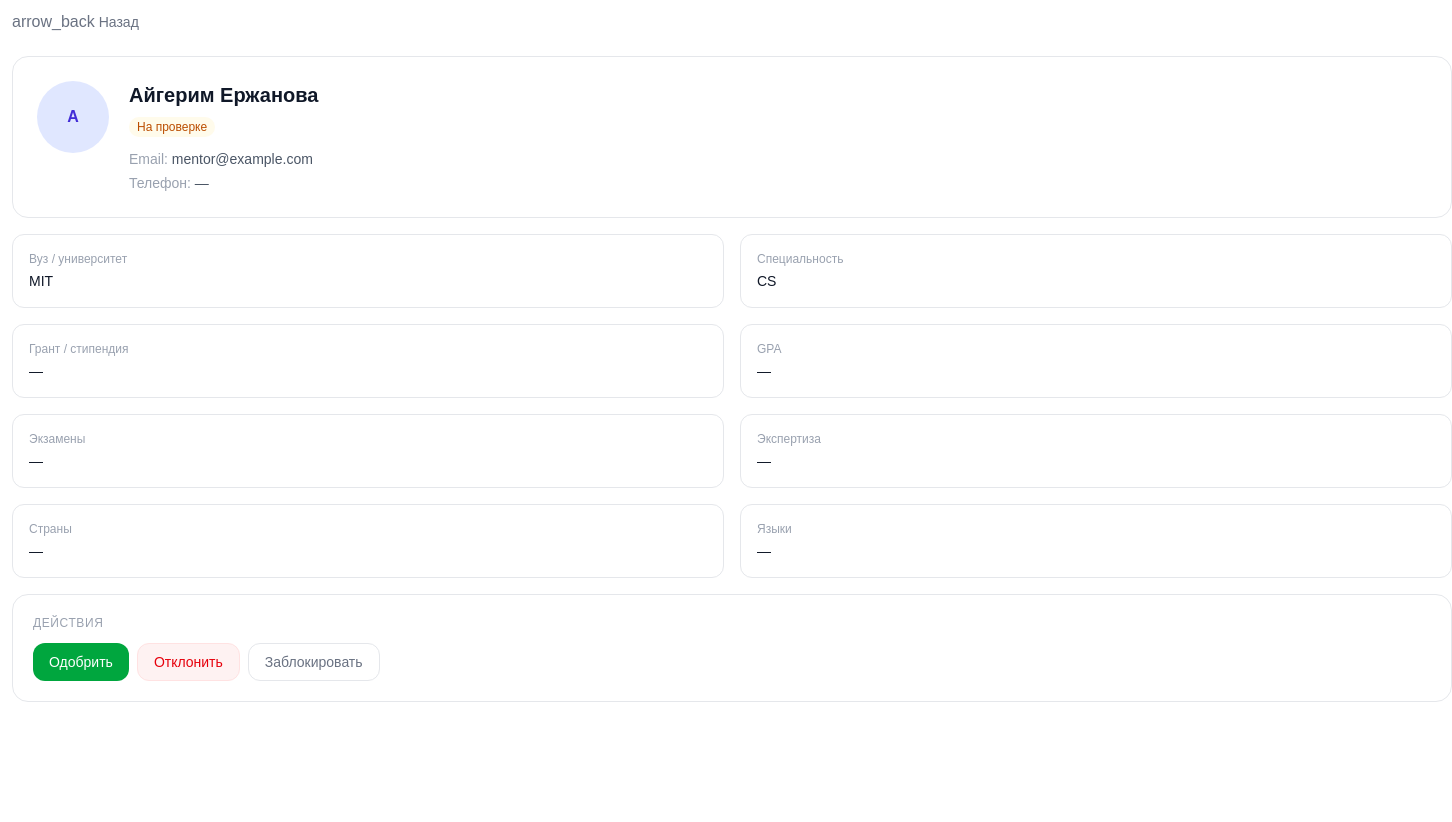
Test case: CRMMentorDetailPage › approves a submitted, unapproved mentor and navigates back to the list
This screenshot has width=1452, height=822.
Expected: the heading "Айгерим Ержанова" is shown, [129,84,318,106]
Click the button "Одобрить".
click(81, 662)  # box [33,643,129,681]
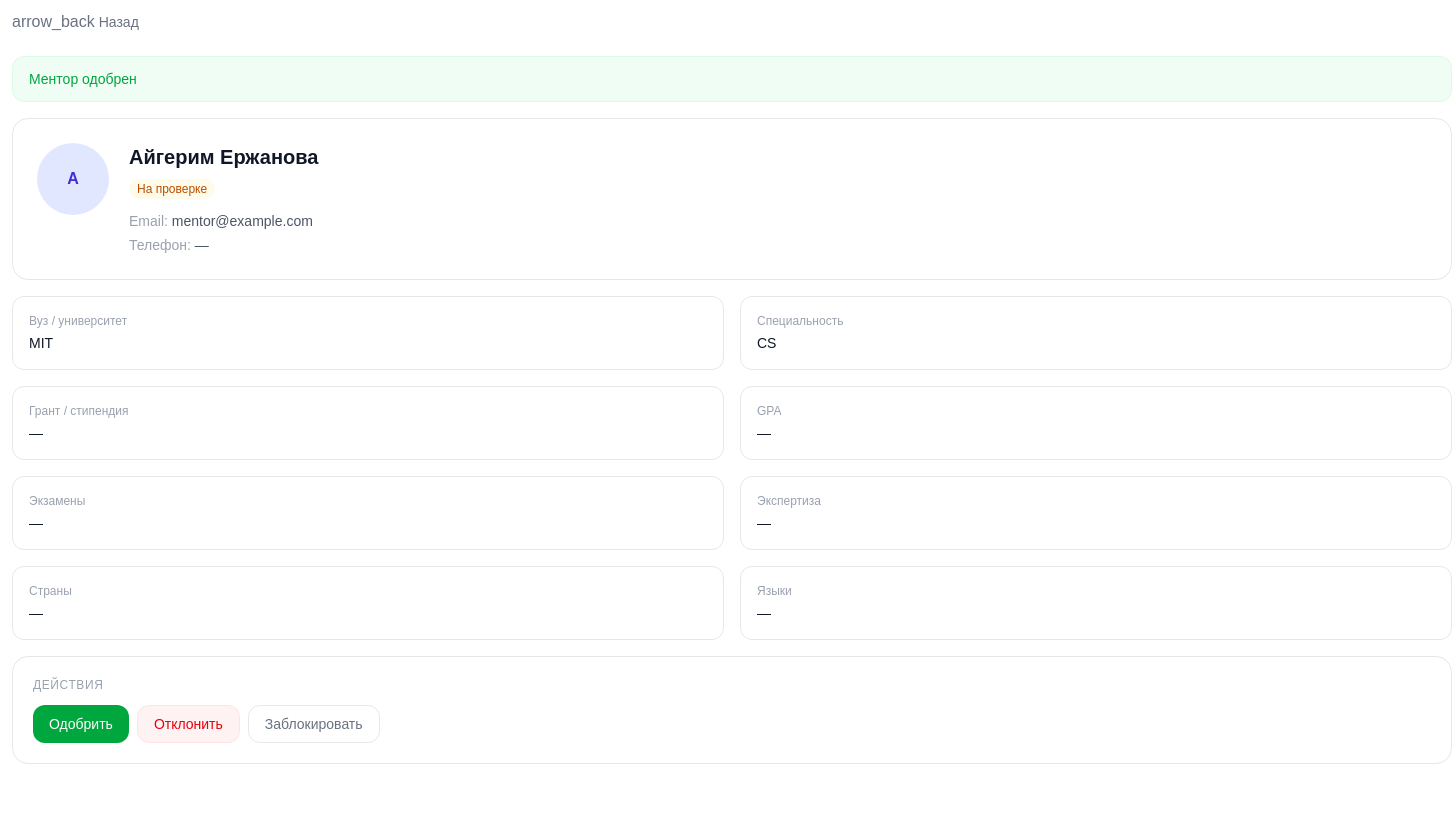
Now the text "Ментор одобрен" is shown, box [12,56,1451,102]
